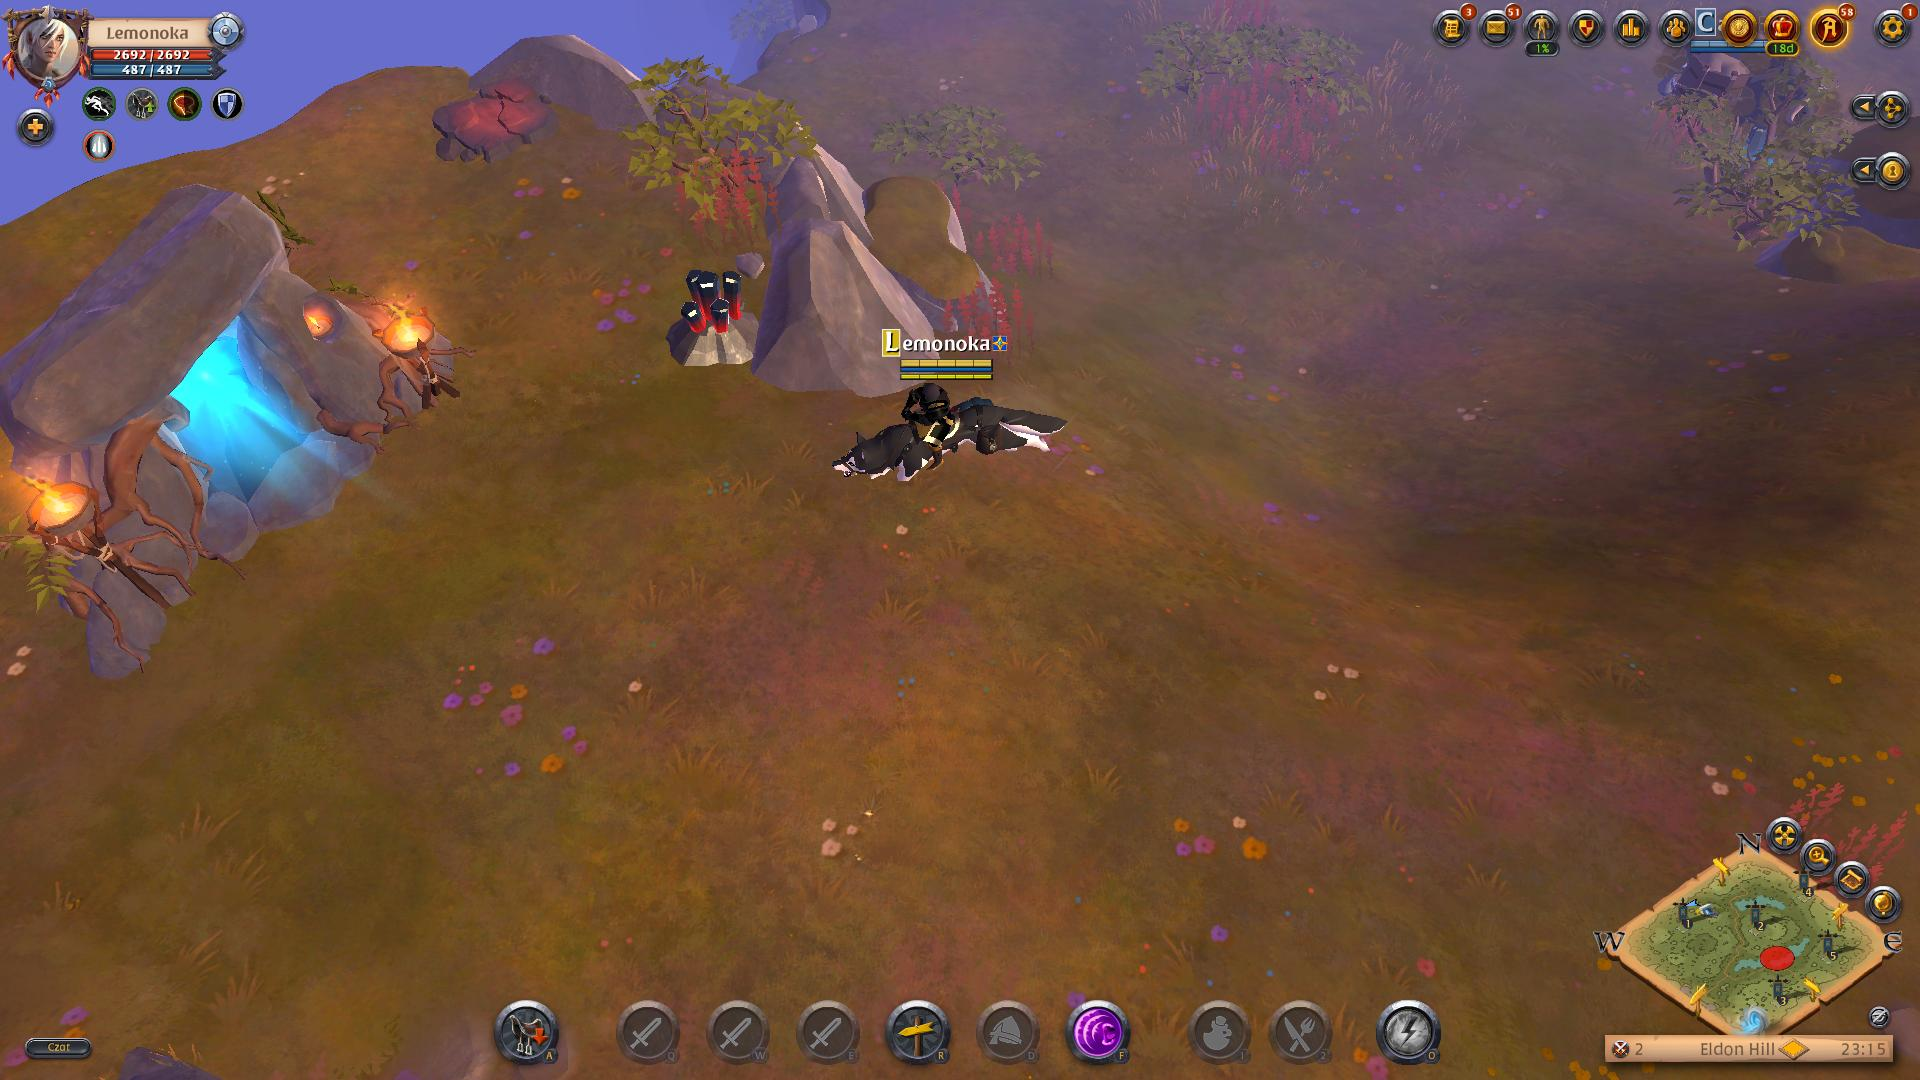ore tier 5: (663, 258, 771, 373)
